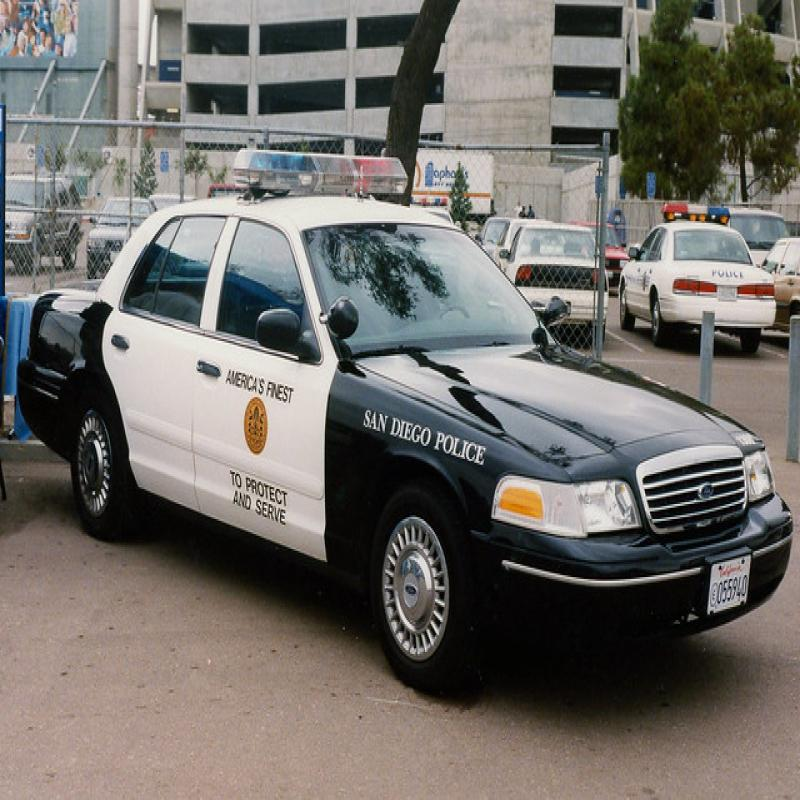AmbulanceSiren: (221, 138, 429, 212), (652, 198, 745, 234)
